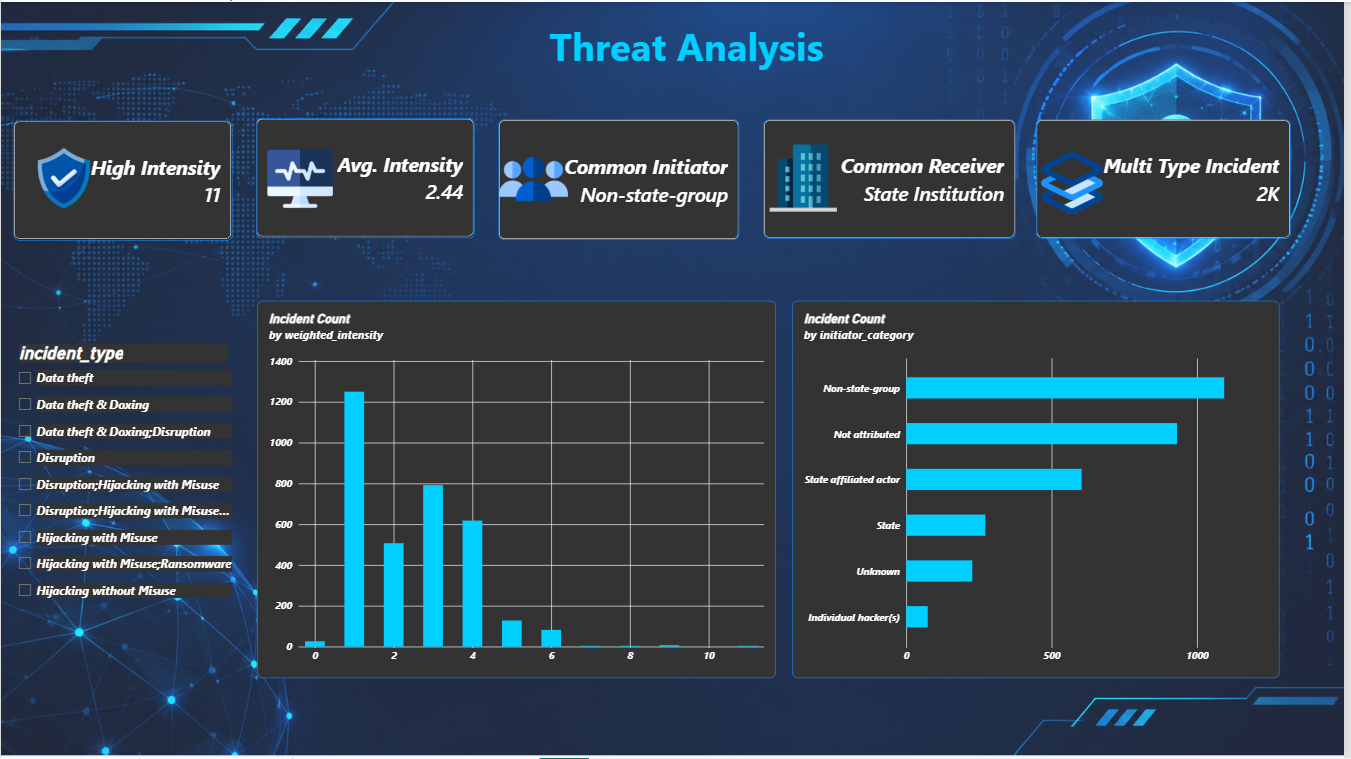

What the dashboard file says about the page in this screenshot:
{"tool":"powerbi","page":{"name":"Threat Analysis","canvas":[1920,1080],"ordinal":1},"visuals":[{"type":"textbox","title":"Threat Analysis","box":[677.2,24.7,605.1,74.1],"z":0},{"type":"cardVisual","fields":{"Data":["cybersecurity_incident_db eurepoc_incidents_clean.High Intensity Incidents"]},"box":[18.5,168.8,312.9,170.8],"z":1},{"type":"cardVisual","fields":{"Data":["cybersecurity_incident_db eurepoc_incidents_clean.Average Weighted Intensity"]},"box":[364,166,312.9,170.8],"z":2},{"type":"cardVisual","fields":{"Data":["cybersecurity_incident_db eurepoc_incidents_clean.Most Common Initiator"]},"box":[710,168,344,172],"z":3},{"type":"cardVisual","fields":{"Data":["cybersecurity_incident_db eurepoc_incidents_clean.Most Common Receiver"]},"box":[1090,168,360,170],"z":4},{"type":"cardVisual","fields":{"Data":["cybersecurity_incident_db eurepoc_incidents_clean.Multi-Type Incidents"]},"box":[1478,168,364,170],"z":5},{"type":"clusteredColumnChart","fields":{"Category":["cybersecurity_incident_db eurepoc_incidents_clean.weighted_intensity"],"Y":["cybersecurity_incident_db eurepoc_incidents_clean.Incident Count"]},"box":[366.4,426.1,741,539.3],"z":6},{"type":"clusteredBarChart","fields":{"Category":["cybersecurity_incident_db eurepoc_incidents_clean.initiator_category"],"Y":["cybersecurity_incident_db eurepoc_incidents_clean.Incident Count"]},"box":[1130,426,695.7,539.3],"z":7},{"type":"slicer","fields":{"Values":["cybersecurity_incident_db eurepoc_incidents_clean.incident_type"]},"box":[18.5,487.8,312.9,403.4],"z":8},{"type":"image","box":[18,196,144,110],"z":9},{"type":"image","box":[710,204,100,98],"z":10},{"type":"image","box":[1090,204,114,96],"z":11},{"type":"image","box":[1450,210,160,96],"z":12},{"type":"image","box":[366,206,122,94],"z":13}]}

Visuals, with their boxes in screenshot pixels (x1, y1, x2, y2), scaled from the page's 1920x1080 canvas onto the 1351x759 screenshot:
"Threat Analysis" textbox: rect(477, 17, 902, 69)
cardVisual - cybersecurity_incident_db eurepoc_incidents_clean.High Intensity Incidents: rect(13, 119, 233, 239)
cardVisual - cybersecurity_incident_db eurepoc_incidents_clean.Average Weighted Intensity: rect(256, 117, 476, 237)
cardVisual - cybersecurity_incident_db eurepoc_incidents_clean.Most Common Initiator: rect(500, 118, 742, 239)
cardVisual - cybersecurity_incident_db eurepoc_incidents_clean.Most Common Receiver: rect(767, 118, 1020, 238)
cardVisual - cybersecurity_incident_db eurepoc_incidents_clean.Multi-Type Incidents: rect(1040, 118, 1296, 238)
clusteredColumnChart - cybersecurity_incident_db eurepoc_incidents_clean.weighted_intensity x cybersecurity_incident_db eurepoc_incidents_clean.Incident Count: rect(258, 299, 779, 678)
clusteredBarChart - cybersecurity_incident_db eurepoc_incidents_clean.initiator_category x cybersecurity_incident_db eurepoc_incidents_clean.Incident Count: rect(795, 299, 1285, 678)
slicer - cybersecurity_incident_db eurepoc_incidents_clean.incident_type: rect(13, 343, 233, 626)
image: rect(13, 138, 114, 215)
image: rect(500, 143, 570, 212)
image: rect(767, 143, 847, 211)
image: rect(1020, 148, 1133, 215)
image: rect(258, 145, 343, 211)
